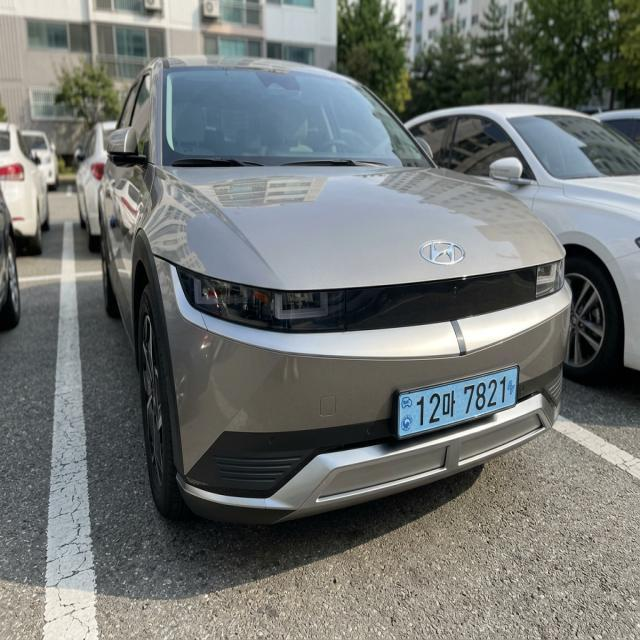car: (362, 350, 544, 454)
carev: (399, 388, 415, 441), (507, 368, 522, 413)
